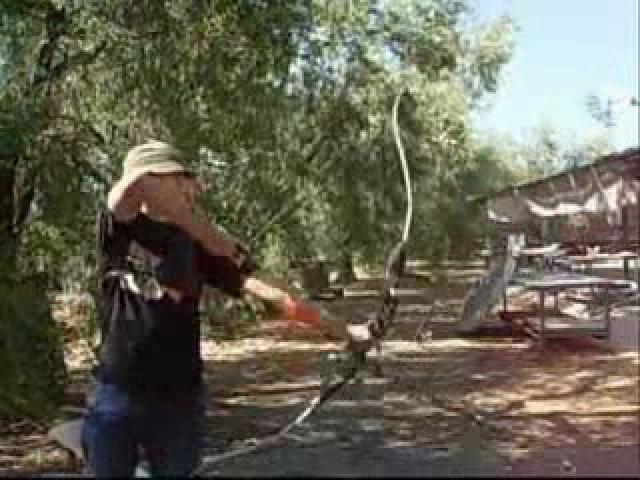I: (65, 125, 374, 480)
